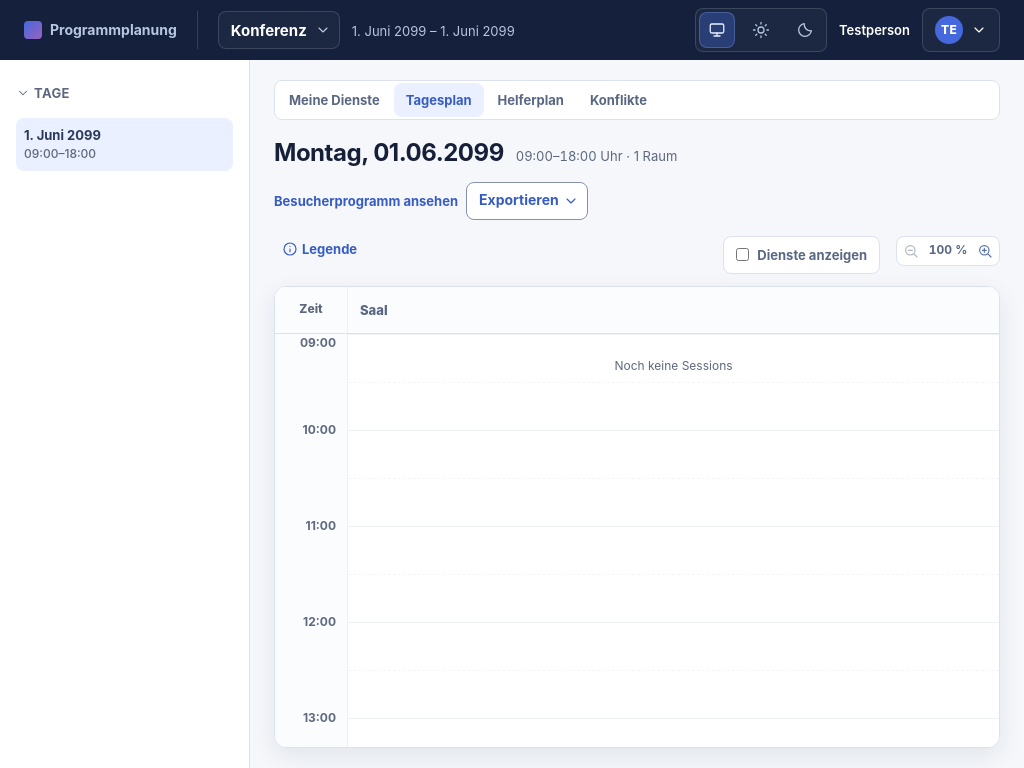
Test: keeps only account actions in the header menu for helper (superadmin: false)
Expected: the button "Tagesplan" is shown, [394, 83, 484, 117]
Click the button named "Menü" at x=961, y=30, box [922, 8, 1000, 52]
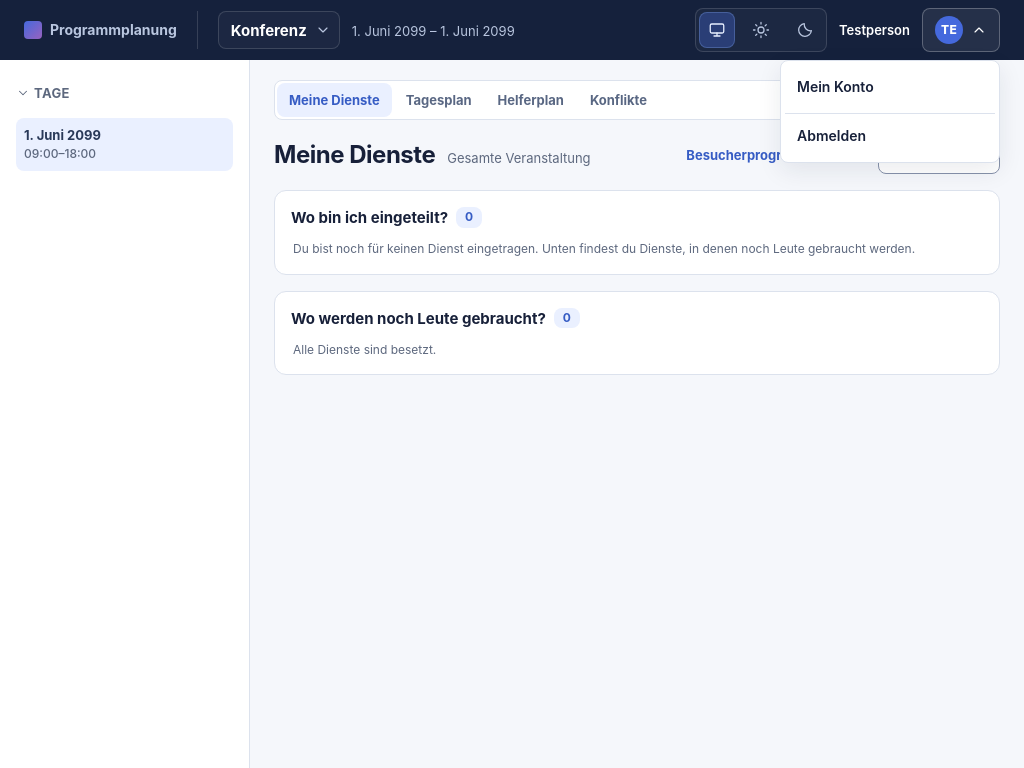
Expected: the buttons read "Mein Konto", "Abmelden", in this order
Click the button "Abmelden" at x=890, y=135, box [785, 113, 995, 158]
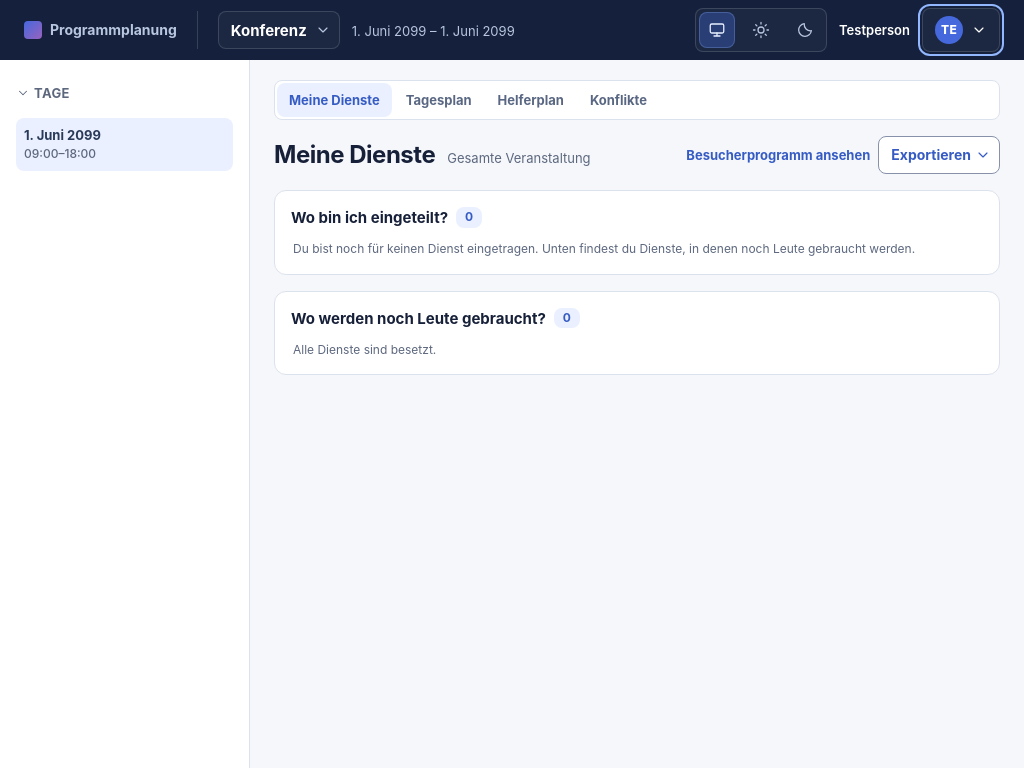
Expected: the element "Header-Aktionen" is gone
